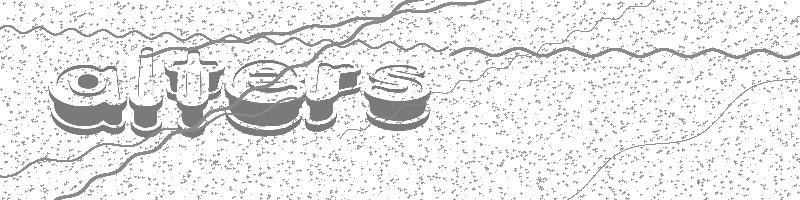a: (48, 62, 127, 135)
e: (223, 58, 306, 138)
l: (128, 46, 165, 139)
r: (306, 61, 363, 134)
s: (364, 63, 432, 132)
t: (164, 48, 223, 138)
